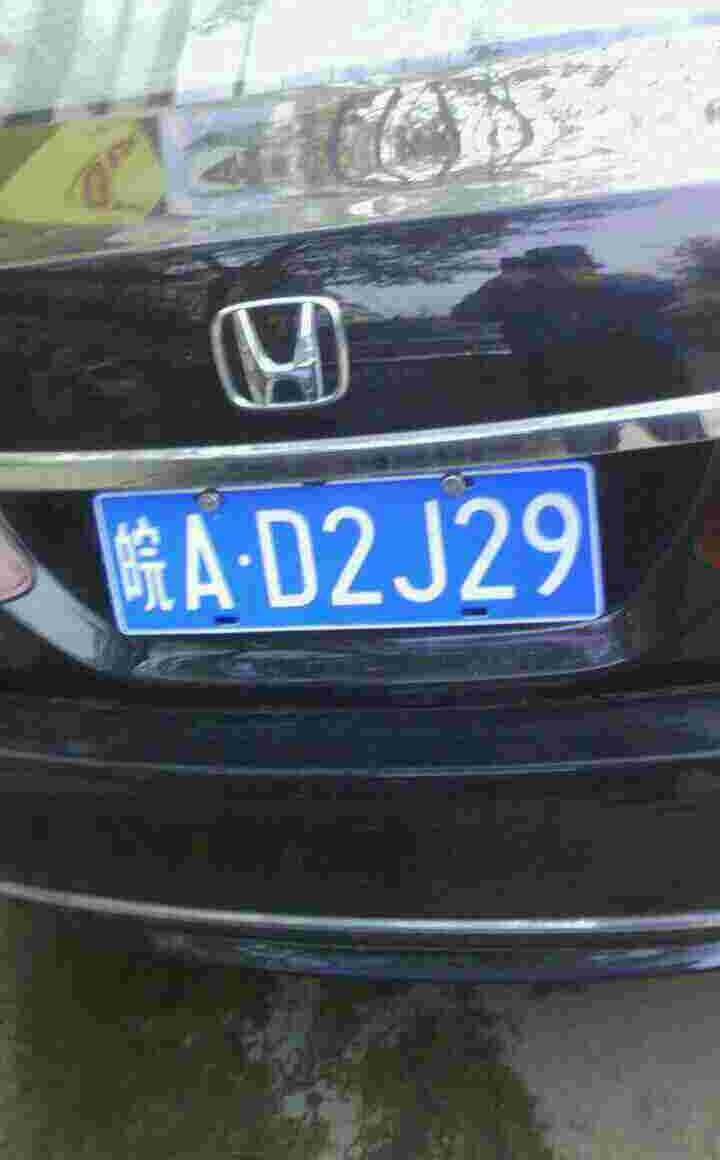license_plate: (83, 475, 610, 630)
